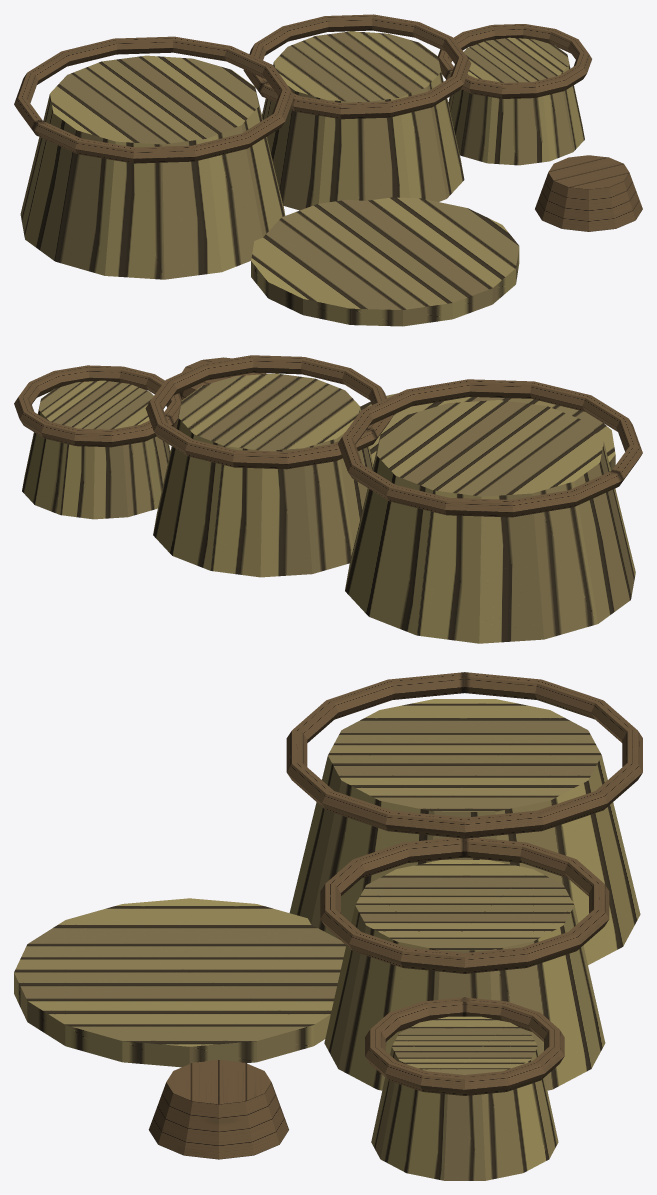
File: cho-ma-thung-mung.glb
The picture shows the model from 3 angles, top to bottom: view 1: azimuth 30°, elevation 25°; view 2: azimuth 150°, elevation 25°; view 3: azimuth 270°, elevation 25°; orthographic projection. The views are drawn at different scales.
Parts seen in each view (by area): view 1: cho-ma-thung-mung; view 2: cho-ma-thung-mung; view 3: cho-ma-thung-mung.
Boxes of the visible parts, left/top/right/bottom form: cho-ma-thung-mung: left=14, top=14, right=642, bottom=326; cho-ma-thung-mung: left=14, top=355, right=642, bottom=643; cho-ma-thung-mung: left=14, top=672, right=642, bottom=1180.
Bounding box in the file's own units: 1.41 × 0.3156 × 1.07.
Materials: 2 (2 with a texture image).
